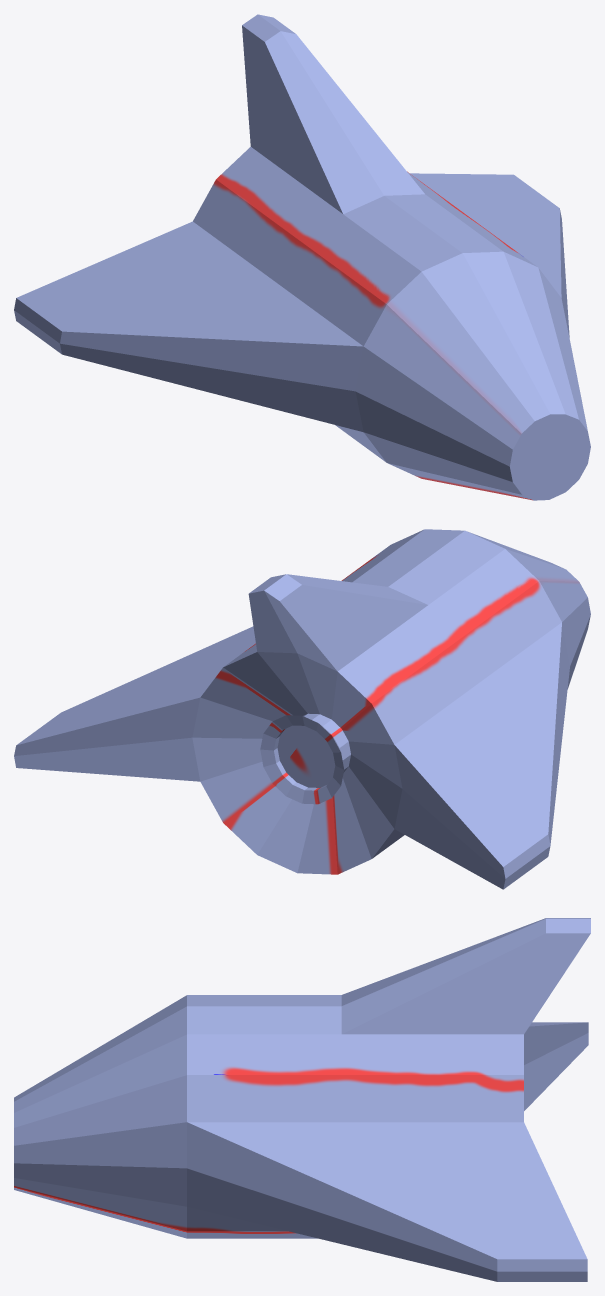
Rendered from Shutle.glb.
3 views of the same model, one above another, from view 1: azimuth 30°, elevation 25°; view 2: azimuth 150°, elevation 25°; view 3: azimuth 270°, elevation 25° (orthographic).
Parts seen in each view (by area): view 1: Cylinder; view 2: Cylinder; view 3: Cylinder.
Part boxes in pixels (box(x1,y1,x2,y2)): Cylinder: box(14, 14, 590, 500); Cylinder: box(14, 529, 590, 889); Cylinder: box(14, 918, 590, 1281).
Bounding box in the file's own units: 4.68 × 2.79 × 4.73.
1 material, 1 textured.
